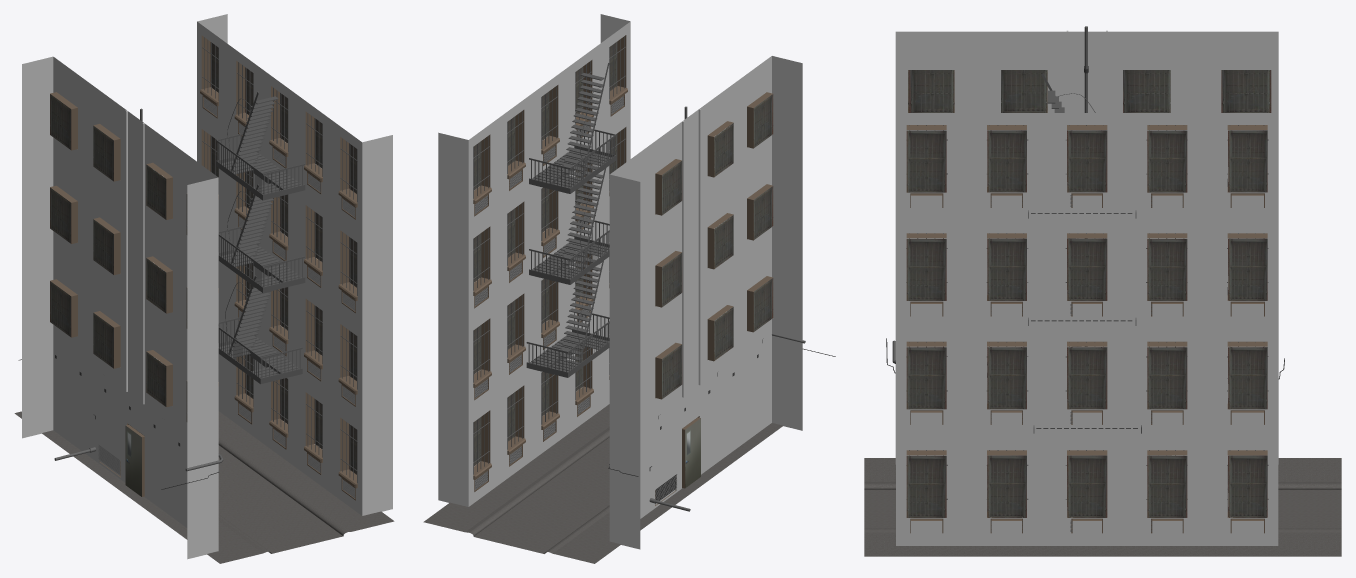
Rendered from Alleyway NEW.fbx.
3 renders of one model, left to right at view 1: azimuth 30°, elevation 25°; view 2: azimuth 150°, elevation 25°; view 3: azimuth 270°, elevation 25°, orthographic. The views are drawn at different scales.
Visible parts, largest first — view 1: UpperBuildingBase.002, UpperBuildingBase, UpperBuildingBase.001, LowerBuildingBase, Building2LowerBase.003, Street, Building2LowerBase, Building2LowerBase.002, Building2LowerBase.001, Firestairsplatforms, Bars, Firestairs (+1 smaller); view 2: UpperBuildingBase.002, UpperBuildingBase.001, UpperBuildingBase, LowerBuildingBase, Building2LowerBase.003, Street, Building2LowerBase, Building2LowerBase.002, Building2LowerBase.001, Firestairsplatforms, Bars, Firestairs (+1 smaller); view 3: Building2LowerBase.001, Building2LowerBase.002, Building2LowerBase.003, Building2LowerBase, UpperBuildingBase.002, Street.
Part boxes in pixels (left/top/right/bottom): UpperBuildingBase.002: left=22, top=56, right=218, bottom=278; UpperBuildingBase: left=22, top=243, right=218, bottom=465; UpperBuildingBase.001: left=22, top=150, right=218, bottom=371; LowerBuildingBase: left=22, top=337, right=218, bottom=559; Building2LowerBase.003: left=197, top=14, right=392, bottom=235; Street: left=14, top=411, right=394, bottom=563; Building2LowerBase: left=218, top=318, right=392, bottom=515; Building2LowerBase.002: left=197, top=115, right=392, bottom=329; Building2LowerBase.001: left=218, top=225, right=392, bottom=422; Firestairsplatforms: left=216, top=91, right=305, bottom=384; Bars: left=202, top=37, right=357, bottom=483; Firestairs: left=230, top=96, right=278, bottom=355; UpperBuildingBase.002: left=609, top=56, right=802, bottom=273; UpperBuildingBase.001: left=609, top=147, right=802, bottom=365; UpperBuildingBase: left=609, top=239, right=802, bottom=457; LowerBuildingBase: left=609, top=331, right=802, bottom=549; Building2LowerBase.003: left=438, top=14, right=630, bottom=231; Street: left=423, top=404, right=783, bottom=563; Building2LowerBase: left=438, top=313, right=609, bottom=506; Building2LowerBase.002: left=438, top=113, right=630, bottom=323; Building2LowerBase.001: left=438, top=221, right=609, bottom=415; Firestairsplatforms: left=526, top=63, right=616, bottom=377; Bars: left=473, top=36, right=625, bottom=474; Firestairs: left=559, top=73, right=604, bottom=360; Building2LowerBase.001: left=896, top=329, right=1278, bottom=438; Building2LowerBase.002: left=896, top=221, right=1278, bottom=329; Building2LowerBase.003: left=896, top=113, right=1278, bottom=221; Building2LowerBase: left=896, top=438, right=1278, bottom=545; UpperBuildingBase.002: left=895, top=30, right=1278, bottom=139; Street: left=864, top=458, right=1341, bottom=556.
Size of the model in its own units: 526 by 835 by 798.
